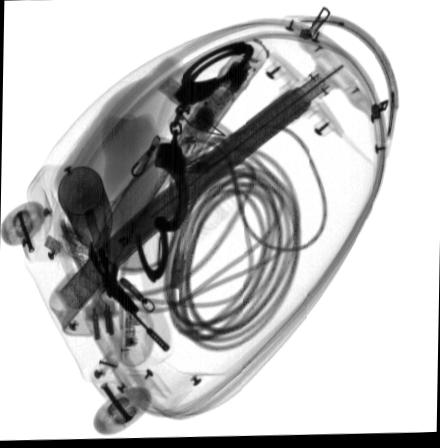Baton: (161, 44, 266, 178)
Gun: (85, 241, 170, 354)
HandCuffs: (133, 43, 253, 285)
